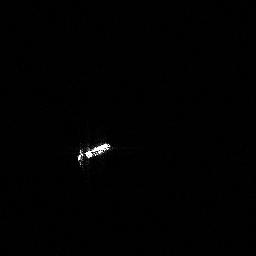ship: (73, 138, 113, 169)
